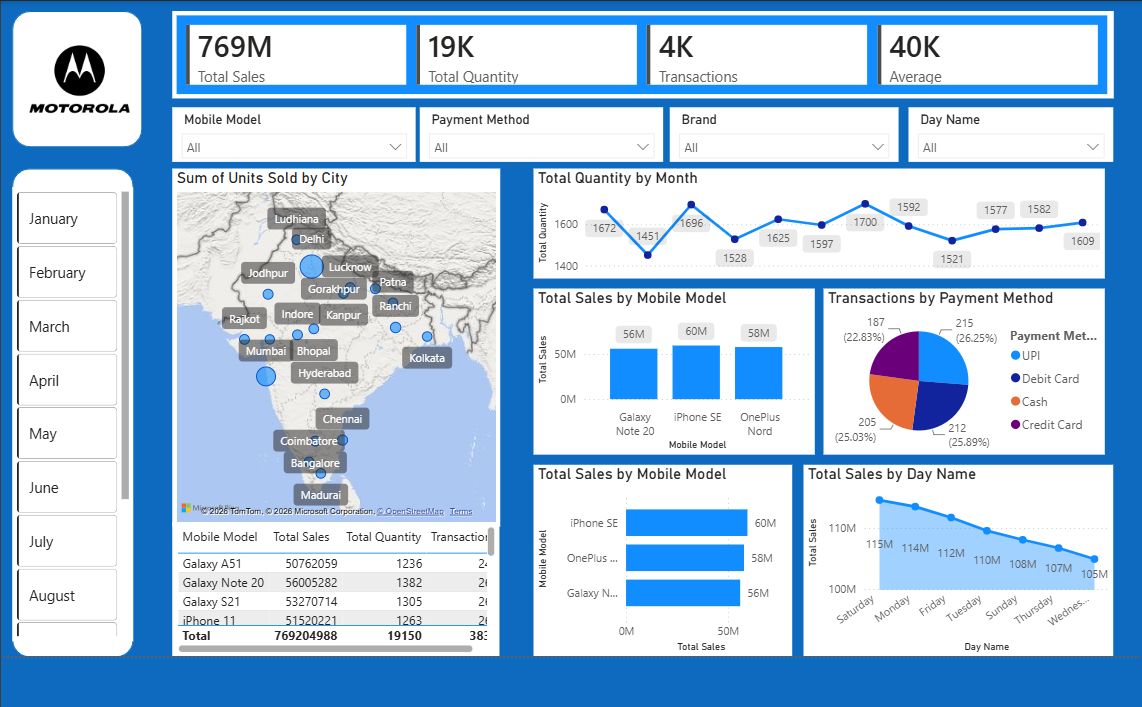

Layout of this report page (visuals, bound fields, positions):
{"tool":"powerbi","page":{"name":"Page 1","canvas":[1280,720],"ordinal":0},"visuals":[{"type":"shape","box":[12.3,11,142.7,149.6],"z":0},{"type":"image","box":[17.8,24.7,137.2,122.1],"z":1000},{"type":"shape","box":[12.3,183.9,133.1,536.5],"z":2000},{"type":"advancedSlicerVisual","fields":{"Values":["Sales_Data.Date.Variation.Date Hierarchy.Month"]},"box":[12.3,204.5,133.1,498.1],"z":3000},{"type":"cardVisual","fields":{"Data":["Sales_Data.Total Sales","Sales_Data.Total Quantity","Sales_Data.Transactions","Sales_Data.Average"]},"box":[188,11,1033.3,96.1],"z":4000},{"type":"map","fields":{"Category":["Sales_Data.City"],"Size":["Sum(Sales_Data.Units Sold)"]},"box":[188,183.9,359.5,392.5],"z":5000},{"type":"lineChart","fields":{"Category":["Sales_Data.Date.Variation.Date Hierarchy.Month","Sales_Data.Date.Variation.Date Hierarchy.Day"],"Y":["Sales_Data.Total Quantity"]},"box":[584.6,183.9,627.1,120.8],"z":6000},{"type":"clusteredColumnChart","fields":{"Category":["Sales_Data.Mobile Model","Sales_Data.Date.Variation.Date Hierarchy.Month","Sales_Data.Date.Variation.Date Hierarchy.Day"],"Y":["Sales_Data.Total Sales"]},"box":[584.6,315.6,308.7,182.5],"z":7000},{"type":"pieChart","fields":{"Category":["Sales_Data.Payment Method"],"Y":["Sales_Data.Transactions"]},"box":[902.9,315.6,308.7,182.5],"z":8000},{"type":"clusteredBarChart","fields":{"Category":["Sales_Data.Mobile Model"],"Y":["Sales_Data.Total Sales"]},"box":[584.6,509.1,284,211.3],"z":9000},{"type":"stackedAreaChart","fields":{"Y":["Sales_Data.Total Sales"],"Category":["Sales_Data.Day Name"]},"box":[881,509.1,340.3,211.3],"z":10000},{"type":"tableEx","fields":{"Values":["Sales_Data.Mobile Model","Sales_Data.Total Sales","Sales_Data.Total Quantity","Sales_Data.Transactions"]},"box":[188,572.2,359.5,148.2],"z":11000},{"type":"slicer","fields":{"Values":["Sales_Data.Mobile Model"]},"box":[188,116.6,267.6,60.4],"z":12000},{"type":"slicer","fields":{"Values":["Sales_Data.Payment Method"]},"box":[459.7,116.6,267.6,60.4],"z":13000},{"type":"slicer","fields":{"Values":["Sales_Data.Brand"]},"box":[734.1,116.6,251.1,60.4],"z":14000},{"type":"slicer","fields":{"Values":["Sales_Data.Day Name"]},"box":[996.2,116.6,225,60.4],"z":15000}]}

Visuals, with their boxes in screenshot pixels (x1, y1, x2, y2):
shape: <region>8, 7, 138, 144</region>
image: <region>13, 20, 138, 131</region>
shape: <region>8, 165, 130, 654</region>
advancedSlicerVisual - Sales_Data.Date.Variation.Date Hierarchy.Month: <region>8, 184, 130, 638</region>
cardVisual - Sales_Data.Total Sales x Sales_Data.Total Quantity: <region>169, 7, 1111, 95</region>
map - Sales_Data.City x Sum(Sales_Data.Units Sold): <region>169, 165, 496, 523</region>
lineChart - Sales_Data.Date.Variation.Date Hierarchy.Month x Sales_Data.Date.Variation.Date Hierarchy.Day: <region>530, 165, 1102, 275</region>
clusteredColumnChart - Sales_Data.Mobile Model x Sales_Data.Date.Variation.Date Hierarchy.Month: <region>530, 285, 812, 451</region>
pieChart - Sales_Data.Payment Method x Sales_Data.Transactions: <region>821, 285, 1102, 451</region>
clusteredBarChart - Sales_Data.Mobile Model x Sales_Data.Total Sales: <region>530, 461, 789, 654</region>
stackedAreaChart - Sales_Data.Total Sales x Sales_Data.Day Name: <region>801, 461, 1111, 654</region>
tableEx - Sales_Data.Mobile Model x Sales_Data.Total Sales: <region>169, 519, 496, 654</region>
slicer - Sales_Data.Mobile Model: <region>169, 103, 413, 158</region>
slicer - Sales_Data.Payment Method: <region>416, 103, 660, 158</region>
slicer - Sales_Data.Brand: <region>667, 103, 896, 158</region>
slicer - Sales_Data.Day Name: <region>906, 103, 1111, 158</region>
